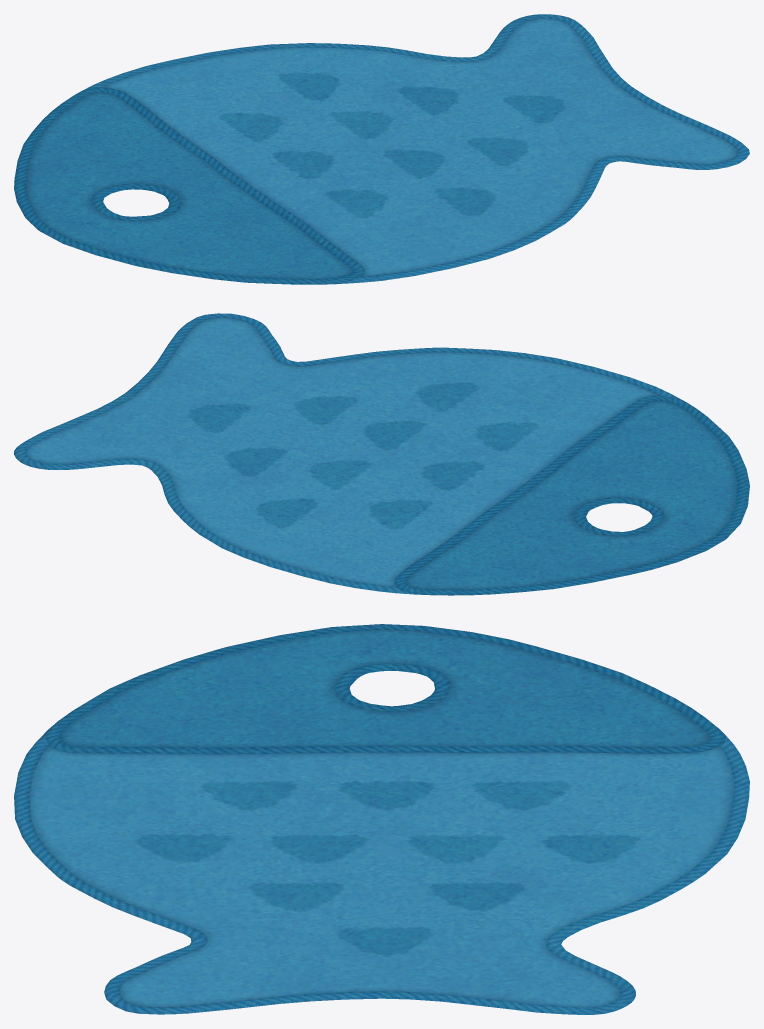
Rendered from RugOtherFishM00.glb.
The picture shows the model from 3 angles, top to bottom: view 1: azimuth 30°, elevation 25°; view 2: azimuth 150°, elevation 25°; view 3: azimuth 270°, elevation 25°; orthographic projection. The views are drawn at different scales.
Parts seen in each view (by area): view 1: Edge__mMain; view 2: Edge__mMain; view 3: Edge__mMain.
Part boxes in pixels (x1,y1,x2,y2): Edge__mMain: (14, 14, 749, 284); Edge__mMain: (14, 313, 749, 595); Edge__mMain: (14, 624, 749, 1014).
Size of the model in its own units: 29.85 by 0.03 by 23.75.
Materials: 1 (1 with a texture image).
